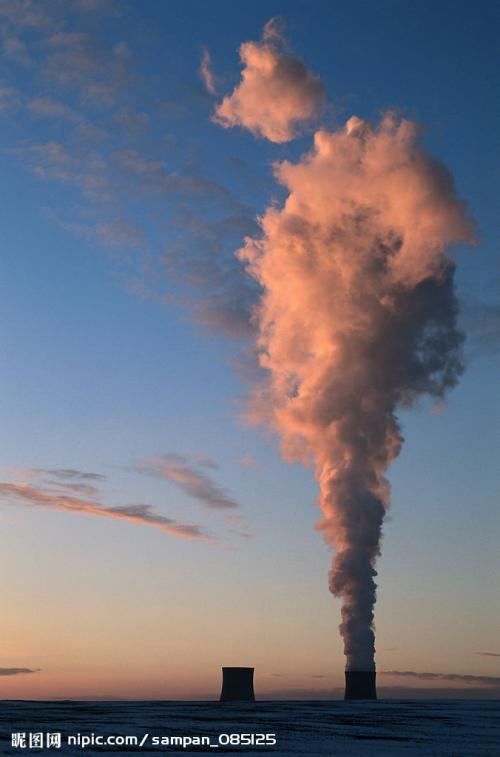smoke: (227, 50, 451, 604)
